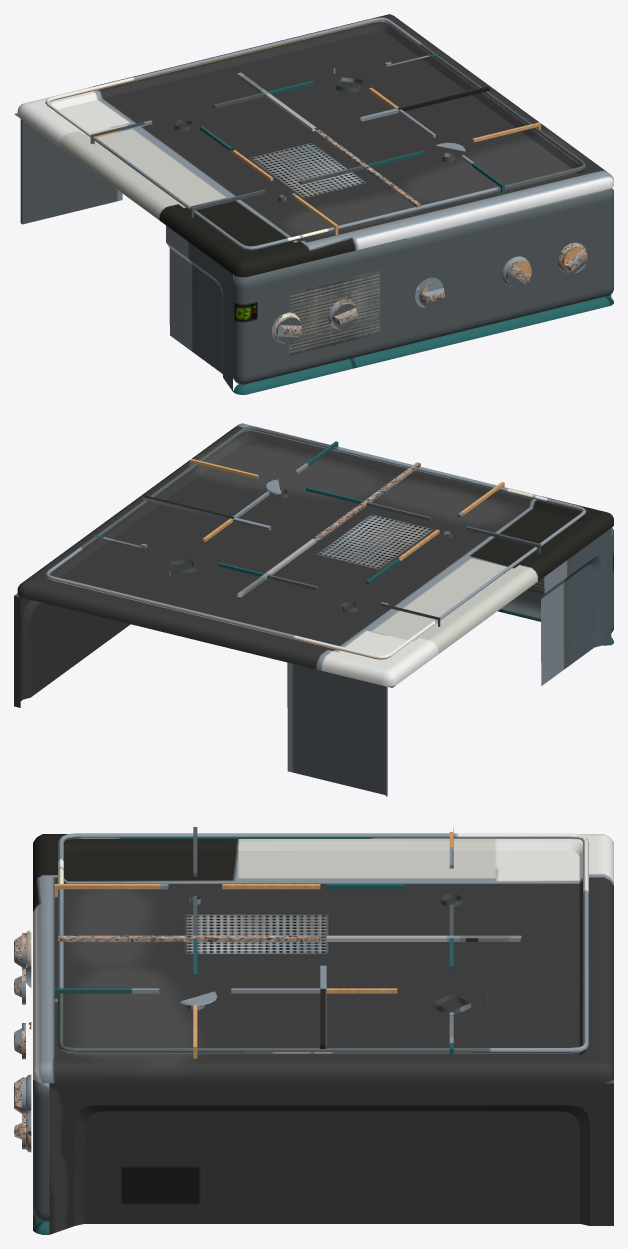
File: CooktopHardware.fbx
The picture shows the model from 3 angles, top to bottom: view 1: azimuth 30°, elevation 25°; view 2: azimuth 150°, elevation 25°; view 3: azimuth 270°, elevation 25°; orthographic projection. The views are drawn at different scales.
Parts seen in each view (by area): view 1: GasStove_Stove_0.001; view 2: GasStove_Stove_0.001; view 3: GasStove_Stove_0.001.
Boxes of the visible parts, bbox=[...] form: GasStove_Stove_0.001: bbox=[14, 14, 613, 394]; GasStove_Stove_0.001: bbox=[14, 423, 613, 796]; GasStove_Stove_0.001: bbox=[14, 827, 613, 1234].
Size of the model in its own units: 7000 by 2452 by 7455.
